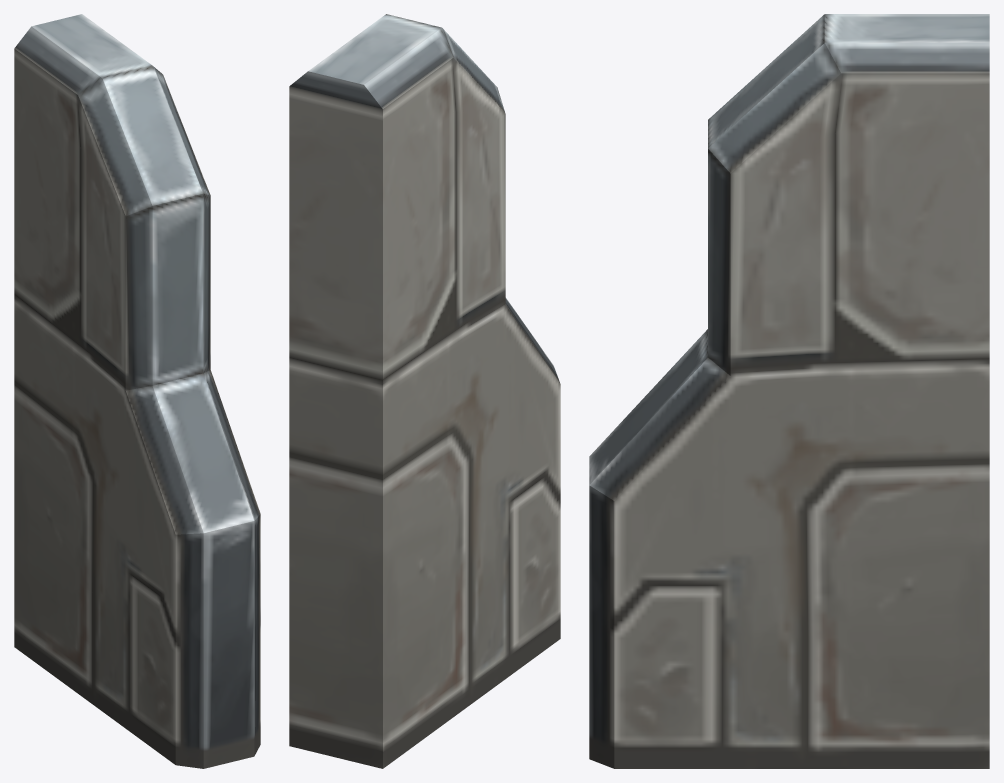
The model's file is Barrier_Half.fbx.
3 renders of one model, left to right at view 1: azimuth 30°, elevation 25°; view 2: azimuth 150°, elevation 25°; view 3: azimuth 270°, elevation 25°, orthographic. The views are drawn at different scales.
Visible parts, largest first — view 1: Barrier_Half; view 2: Barrier_Half; view 3: Barrier_Half.
Part boxes in pixels (<box>): Barrier_Half: <box>14,14,260,768</box>; Barrier_Half: <box>289,14,560,768</box>; Barrier_Half: <box>589,14,989,768</box>.
Size of the model in its own units: 0.2472 by 1.71 by 0.8674.
